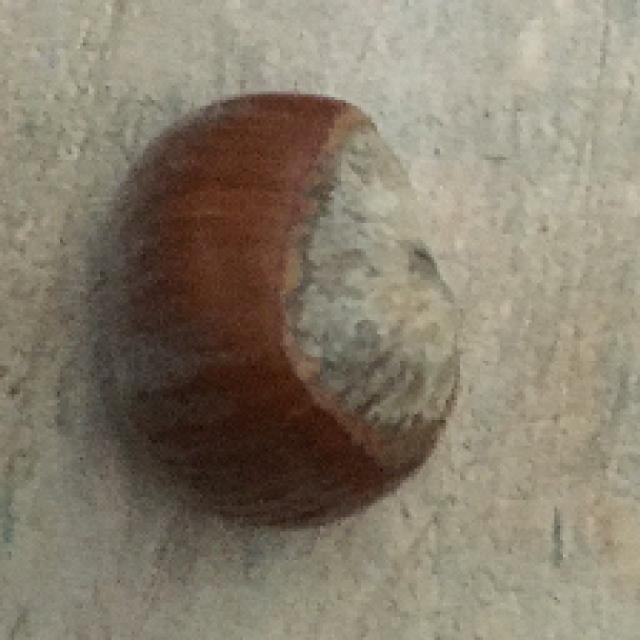qualityHazelnut: (81, 88, 465, 534)
